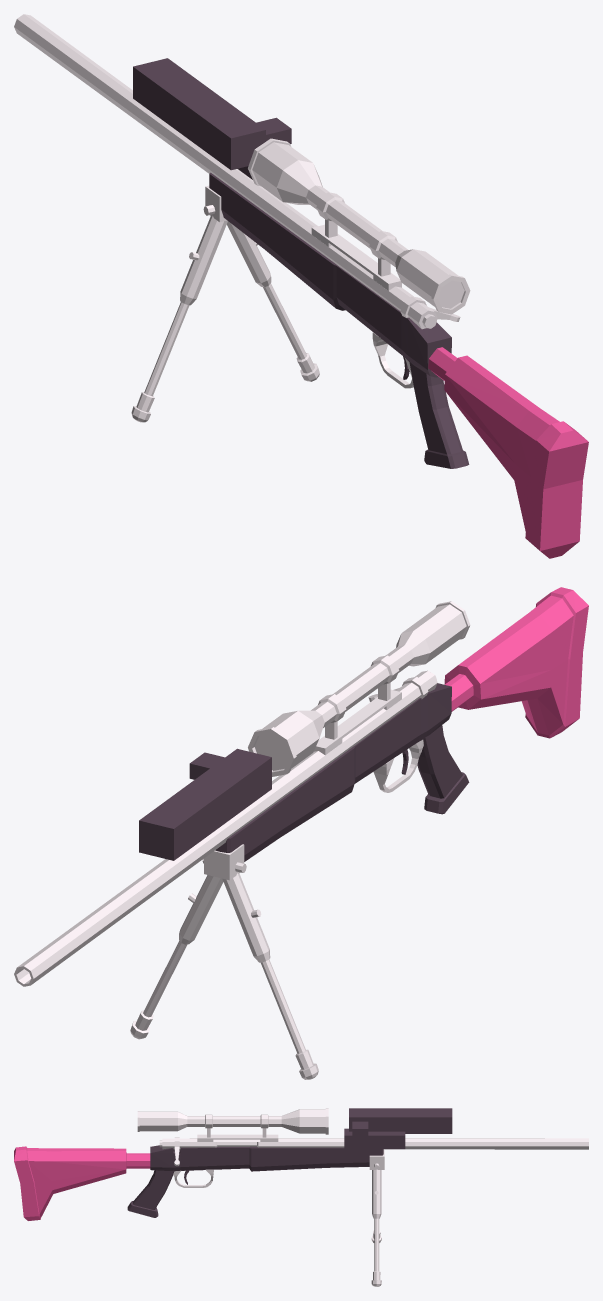
Rendered from SniperRifle_5.obj.
3 views of the same model, one above another, from view 1: azimuth 30°, elevation 25°; view 2: azimuth 150°, elevation 25°; view 3: azimuth 270°, elevation 25° (orthographic). The views are drawn at different scales.
Visible parts, largest first — view 1: Body, Accent, Hardware, Bolt; view 2: Body, Accent, Hardware, Bolt; view 3: Body, Hardware, Accent, Bolt.
Part boxes in pixels (<box>): Body: <box>14,14,470,422</box>; Accent: <box>428,347,588,558</box>; Hardware: <box>209,166,469,468</box>; Bolt: <box>133,58,291,170</box>; Body: <box>14,601,470,1079</box>; Accent: <box>444,587,588,738</box>; Hardware: <box>215,683,469,861</box>; Bolt: <box>139,748,271,860</box>; Body: <box>137,1108,588,1286</box>; Hardware: <box>127,1128,405,1217</box>; Accent: <box>14,1146,150,1220</box>; Bolt: <box>349,1108,452,1136</box>.
Bounding box in the file's own units: 1.28 × 1.95 × 6.5.
